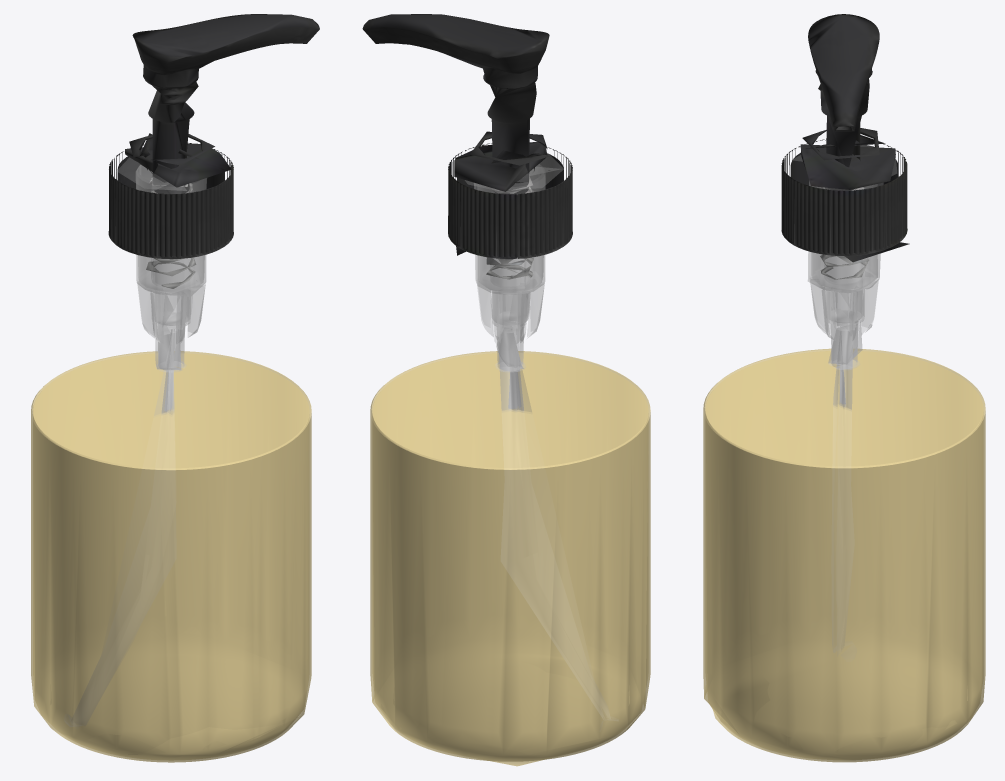
Rendered from cleaning_soapDispenser_a01.glb.
3 renders of one model, left to right at view 1: azimuth 30°, elevation 25°; view 2: azimuth 150°, elevation 25°; view 3: azimuth 270°, elevation 25°, orthographic.
Parts seen in each view (by area): view 1: sm_cleaning_soapDispenser_a01_01; view 2: sm_cleaning_soapDispenser_a01_01; view 3: sm_cleaning_soapDispenser_a01_01.
Part boxes in pixels (left/top/right/bottom): sm_cleaning_soapDispenser_a01_01: left=31, top=14, right=319, bottom=762; sm_cleaning_soapDispenser_a01_01: left=362, top=14, right=650, bottom=766; sm_cleaning_soapDispenser_a01_01: left=703, top=14, right=985, bottom=762.
Bounding box in the file's own units: 0.0791 × 0.1824 × 0.0733.
5 materials, 2 textured.
